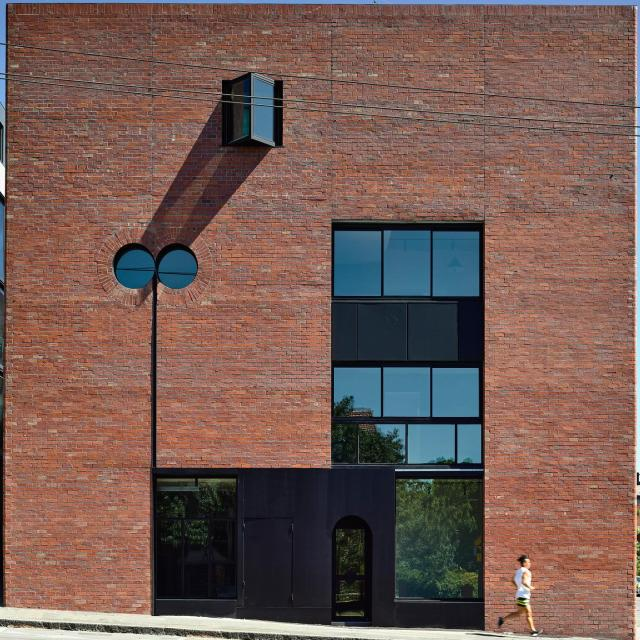door: (335, 526, 366, 617)
wall: (3, 0, 630, 640)
windows: (332, 366, 481, 464), (395, 478, 484, 600), (334, 229, 482, 298), (154, 480, 238, 598), (229, 73, 278, 142), (112, 244, 152, 284), (158, 244, 198, 284)
